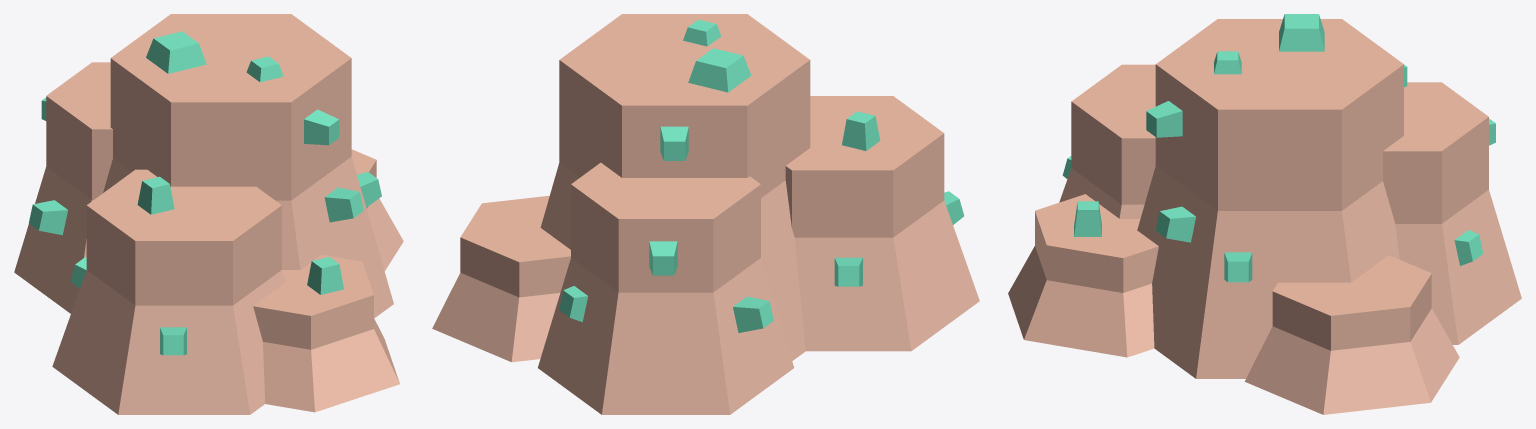
File: rock_crystalsLargeA.glb
The picture shows the model from 3 angles, left to right: view 1: azimuth 30°, elevation 25°; view 2: azimuth 150°, elevation 25°; view 3: azimuth 270°, elevation 25°; orthographic projection. The views are drawn at different scales.
Visible parts, largest first — view 1: rock_crystalsLargeA; view 2: rock_crystalsLargeA; view 3: rock_crystalsLargeA.
Part boxes in pixels (x1,y1,x2,y2): rock_crystalsLargeA: (14, 14, 403, 414); rock_crystalsLargeA: (432, 14, 979, 414); rock_crystalsLargeA: (1008, 14, 1521, 414).
Bounding box in the file's own units: 0.8339 × 0.541 × 0.9193.
